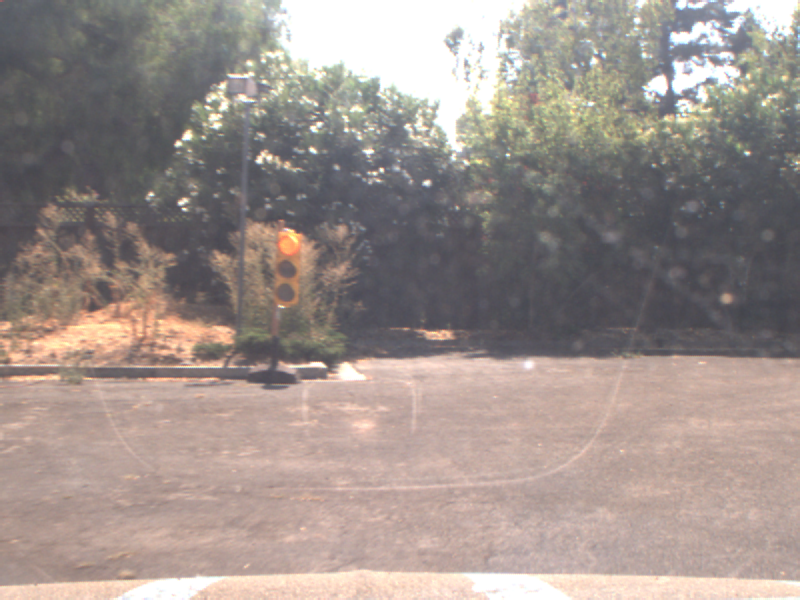red: (271, 226, 303, 310)
